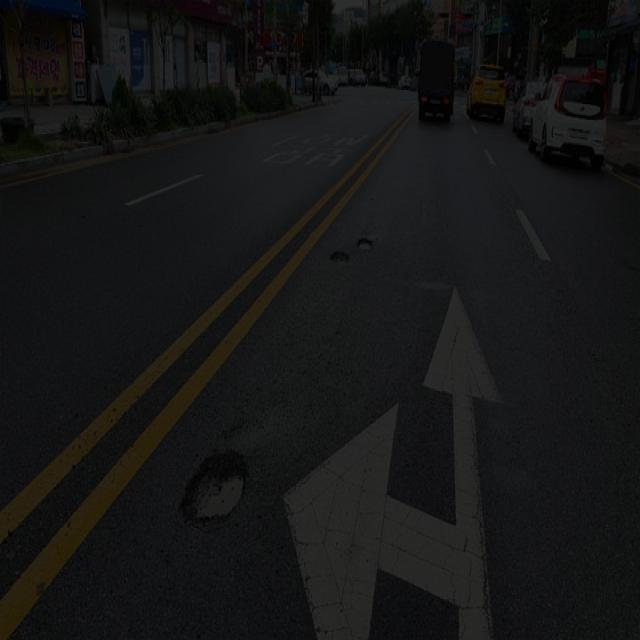pothole: (171, 439, 256, 536), (351, 230, 379, 256), (324, 240, 349, 269)
